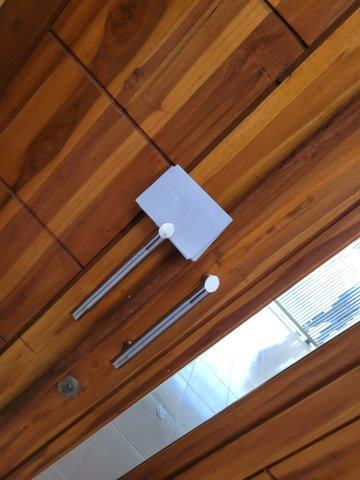kertas: (134, 164, 233, 260)
